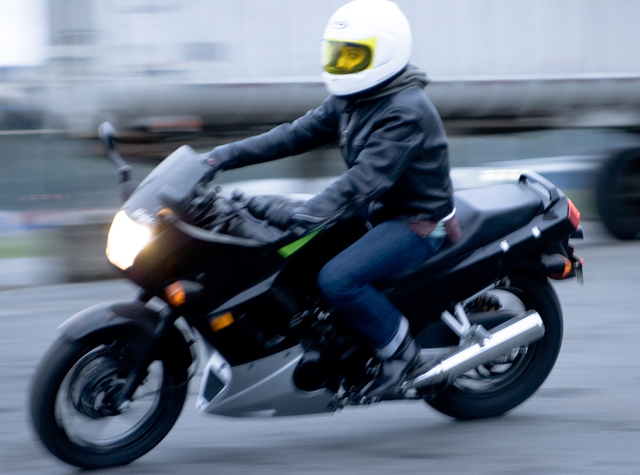helmet: (313, 1, 421, 85)
